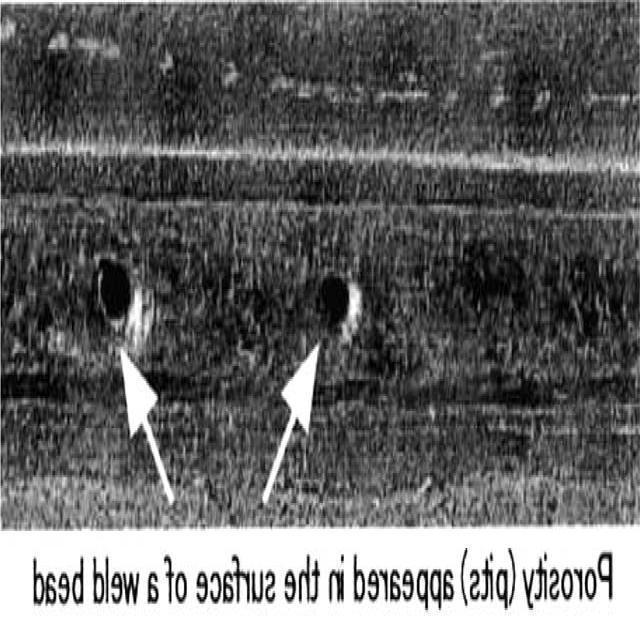Porosity: (308, 244, 370, 336), (91, 247, 135, 342)
